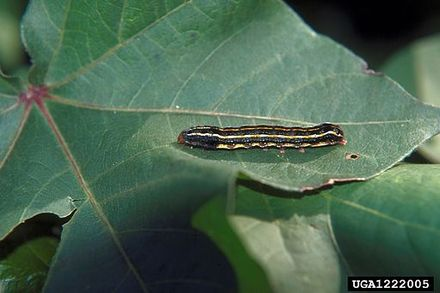Armyworm: (172, 113, 353, 160)
